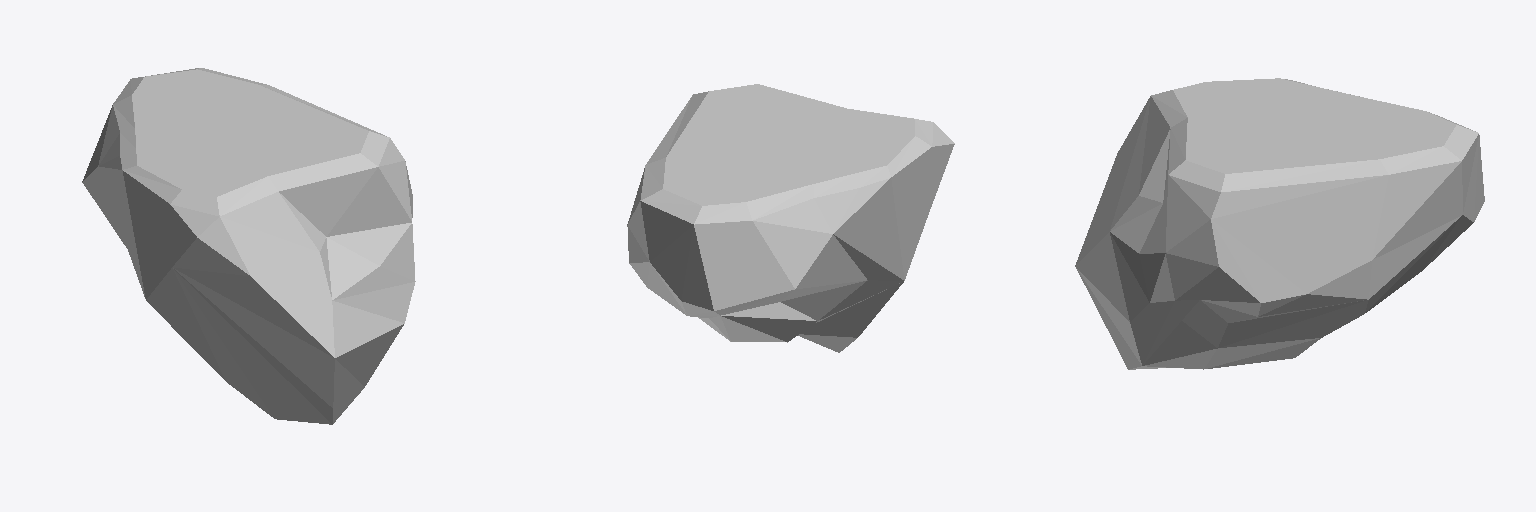
File: Rock2Platform.obj
The picture shows the model from 3 angles: view 1: azimuth 30°, elevation 25°; view 2: azimuth 150°, elevation 25°; view 3: azimuth 270°, elevation 25°; orthographic projection.
Parts seen in each view (by area): view 1: Rock_2.009_Icosphere.018; view 2: Rock_2.009_Icosphere.018; view 3: Rock_2.009_Icosphere.018.
Boxes of the visible parts, x1=… form: Rock_2.009_Icosphere.018: x1=82, y1=68, x2=415, y2=424; Rock_2.009_Icosphere.018: x1=627, y1=84, x2=954, y2=352; Rock_2.009_Icosphere.018: x1=1075, y1=78, x2=1484, y2=369.
Bounding box in the file's own units: 8.21 × 7.56 × 11.34.